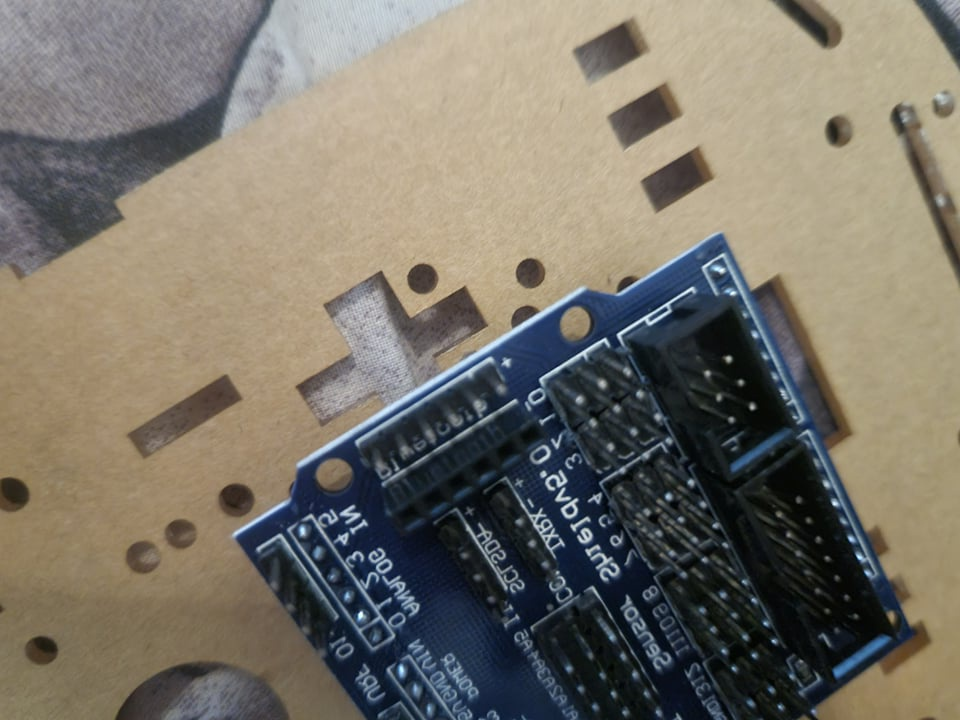5V EXPANSION: (231, 232, 919, 720)
